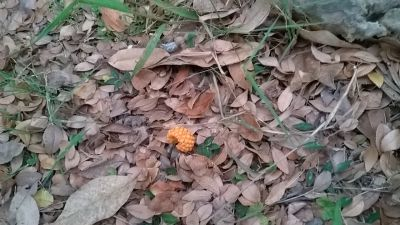eggs: (166, 125, 195, 155)
